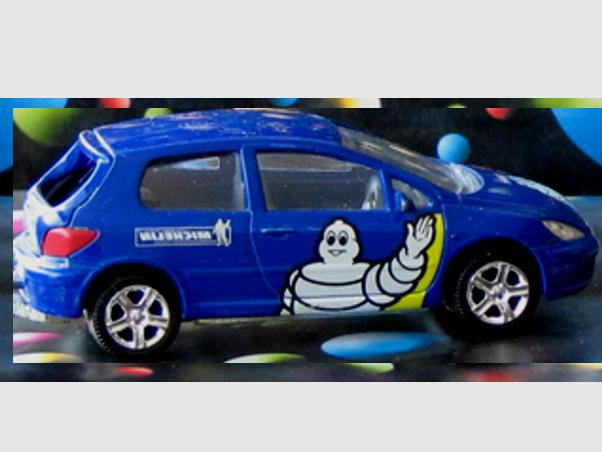toy-car: (13, 108, 602, 363)
